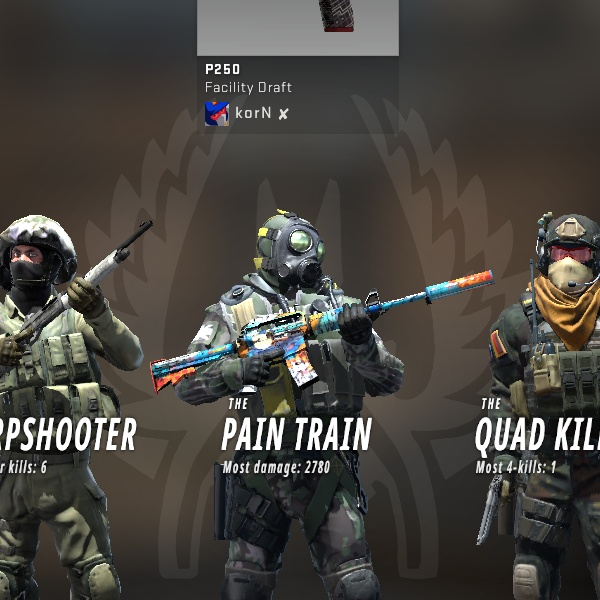ct_body: (162, 203, 392, 594), (1, 193, 154, 600)
ct_head: (239, 203, 344, 301), (517, 193, 598, 313), (0, 203, 86, 306)
